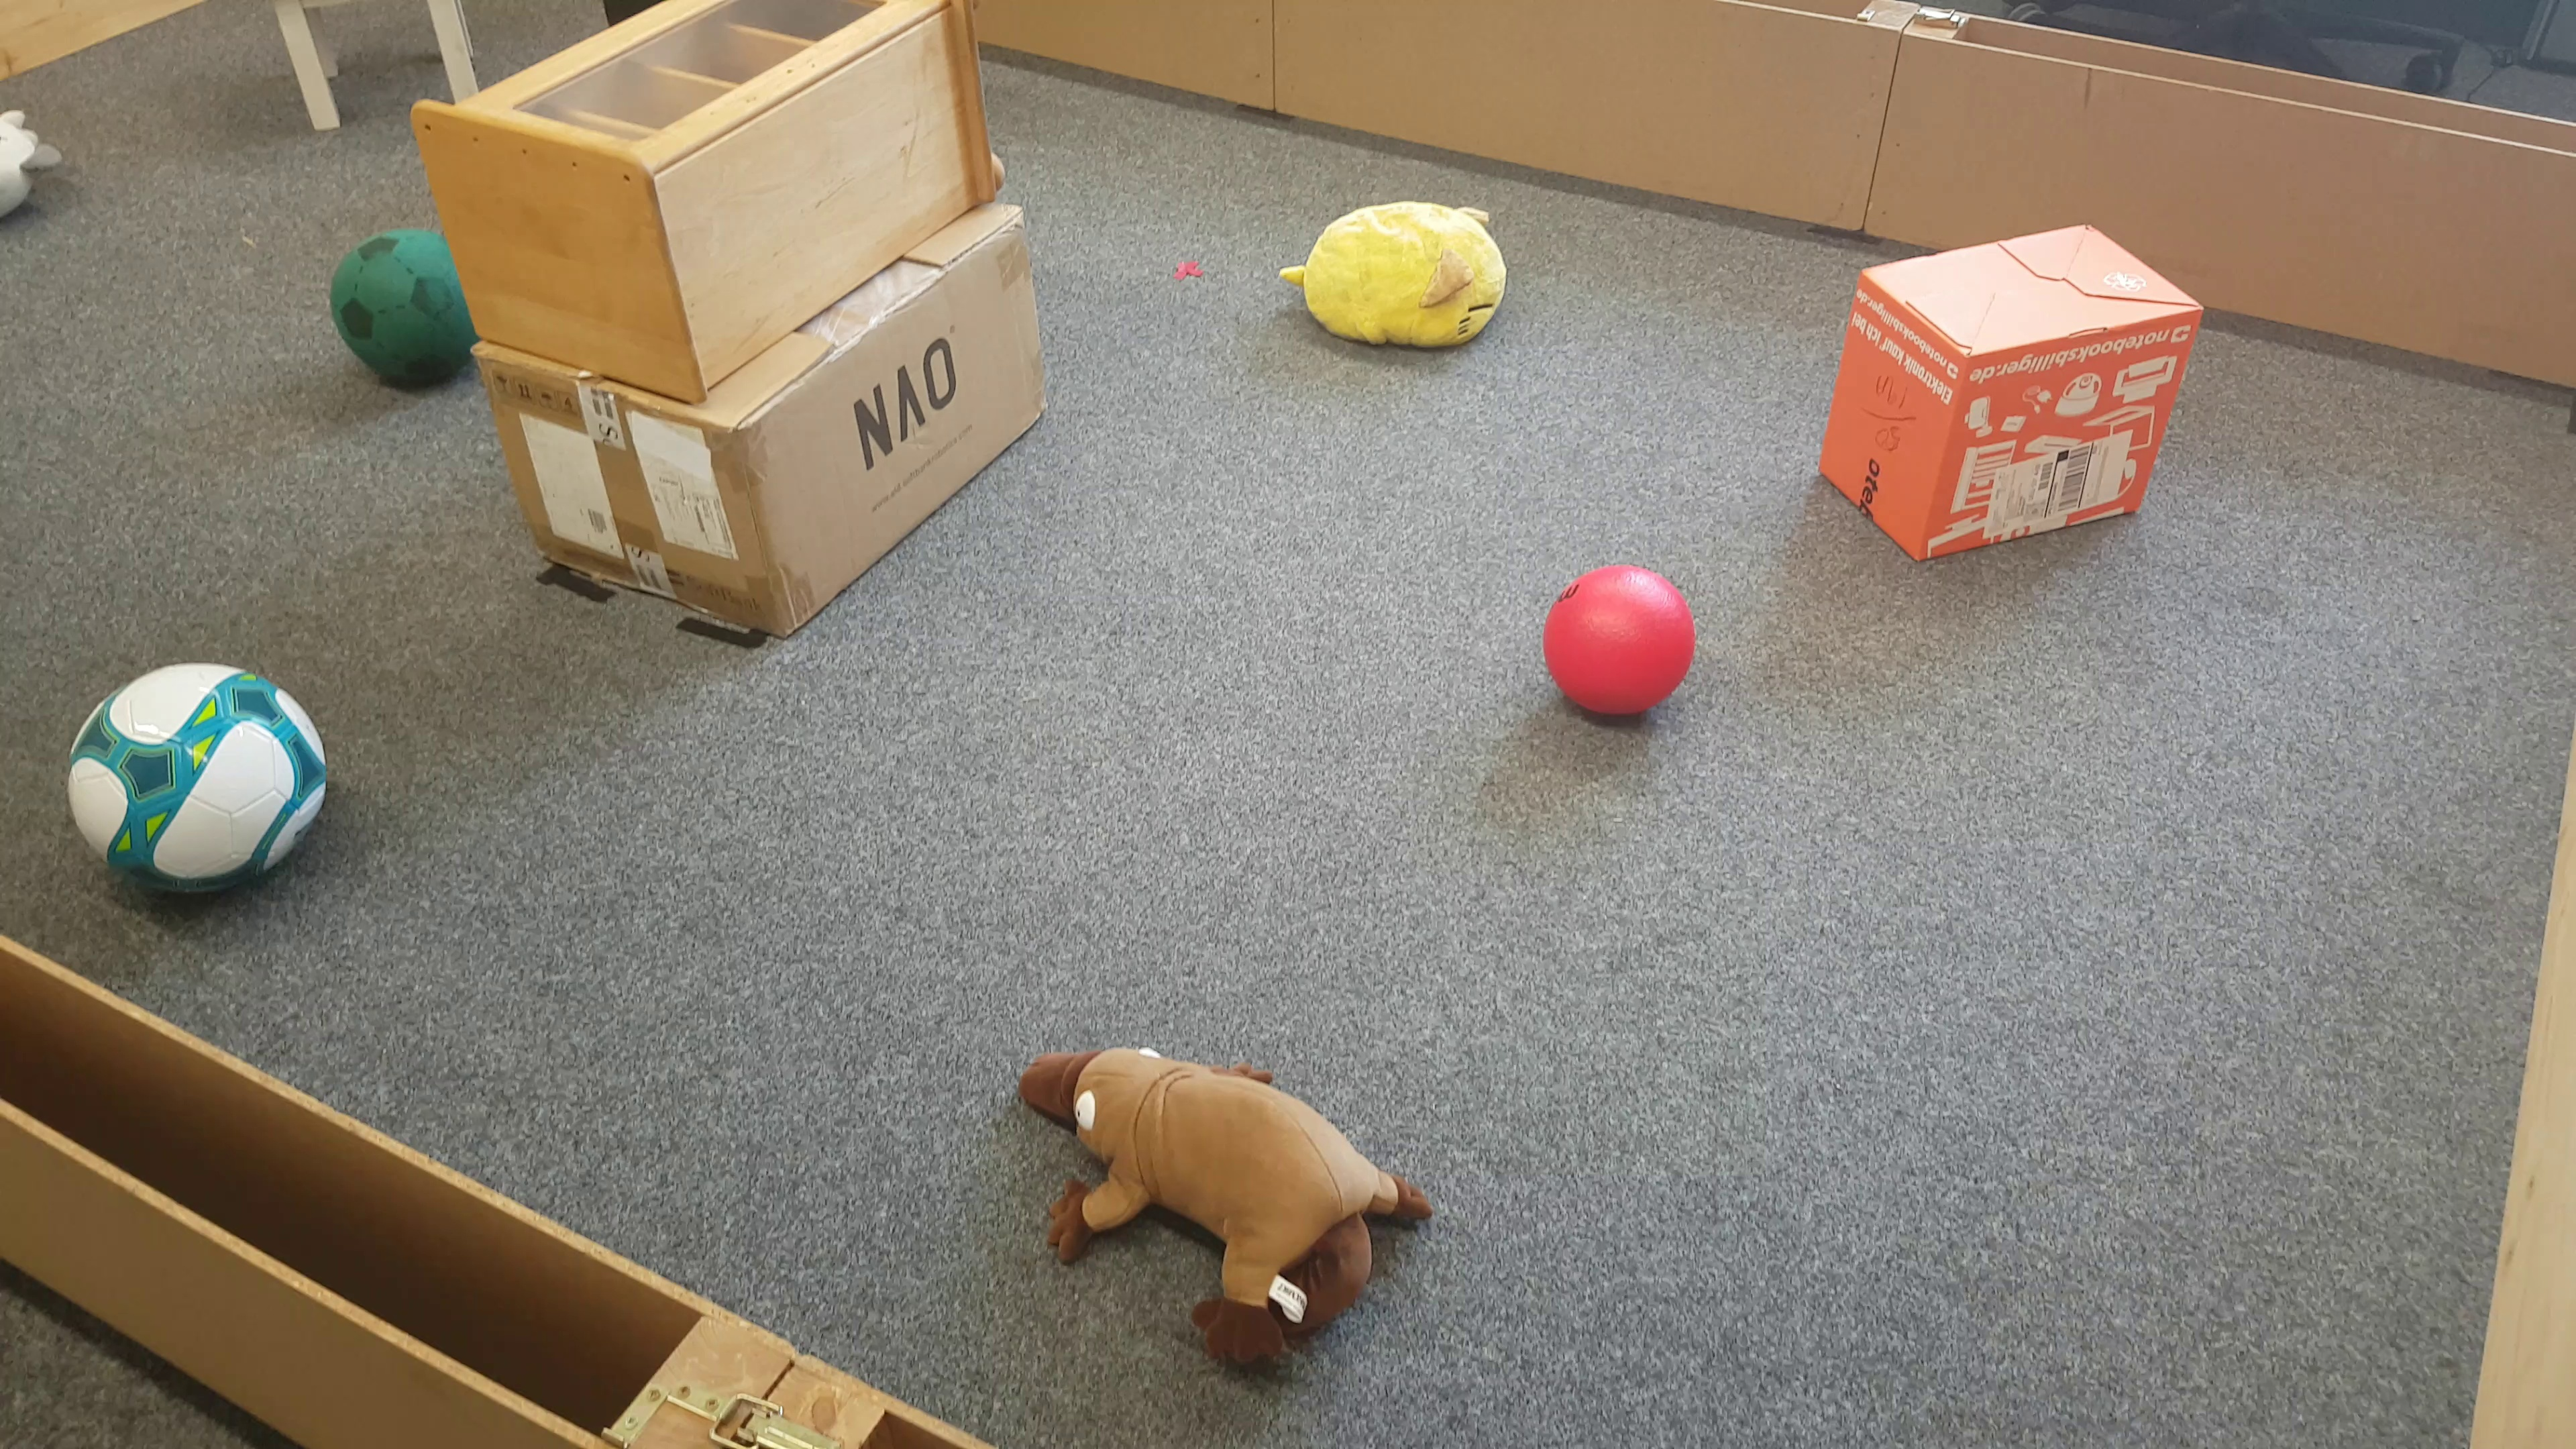grasp: (1019, 1042, 1430, 1375), (1283, 196, 1504, 356), (2, 111, 58, 221)
kick: (67, 672, 327, 897), (1548, 561, 1698, 731), (331, 225, 479, 387)
push: (1824, 223, 2201, 568)
